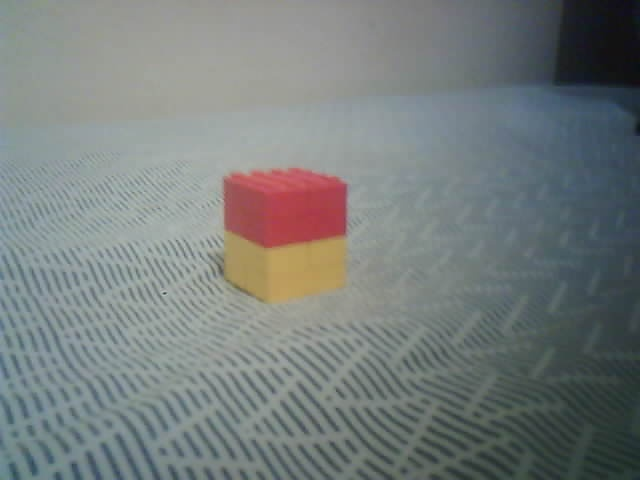lego: (220, 166, 351, 305)
